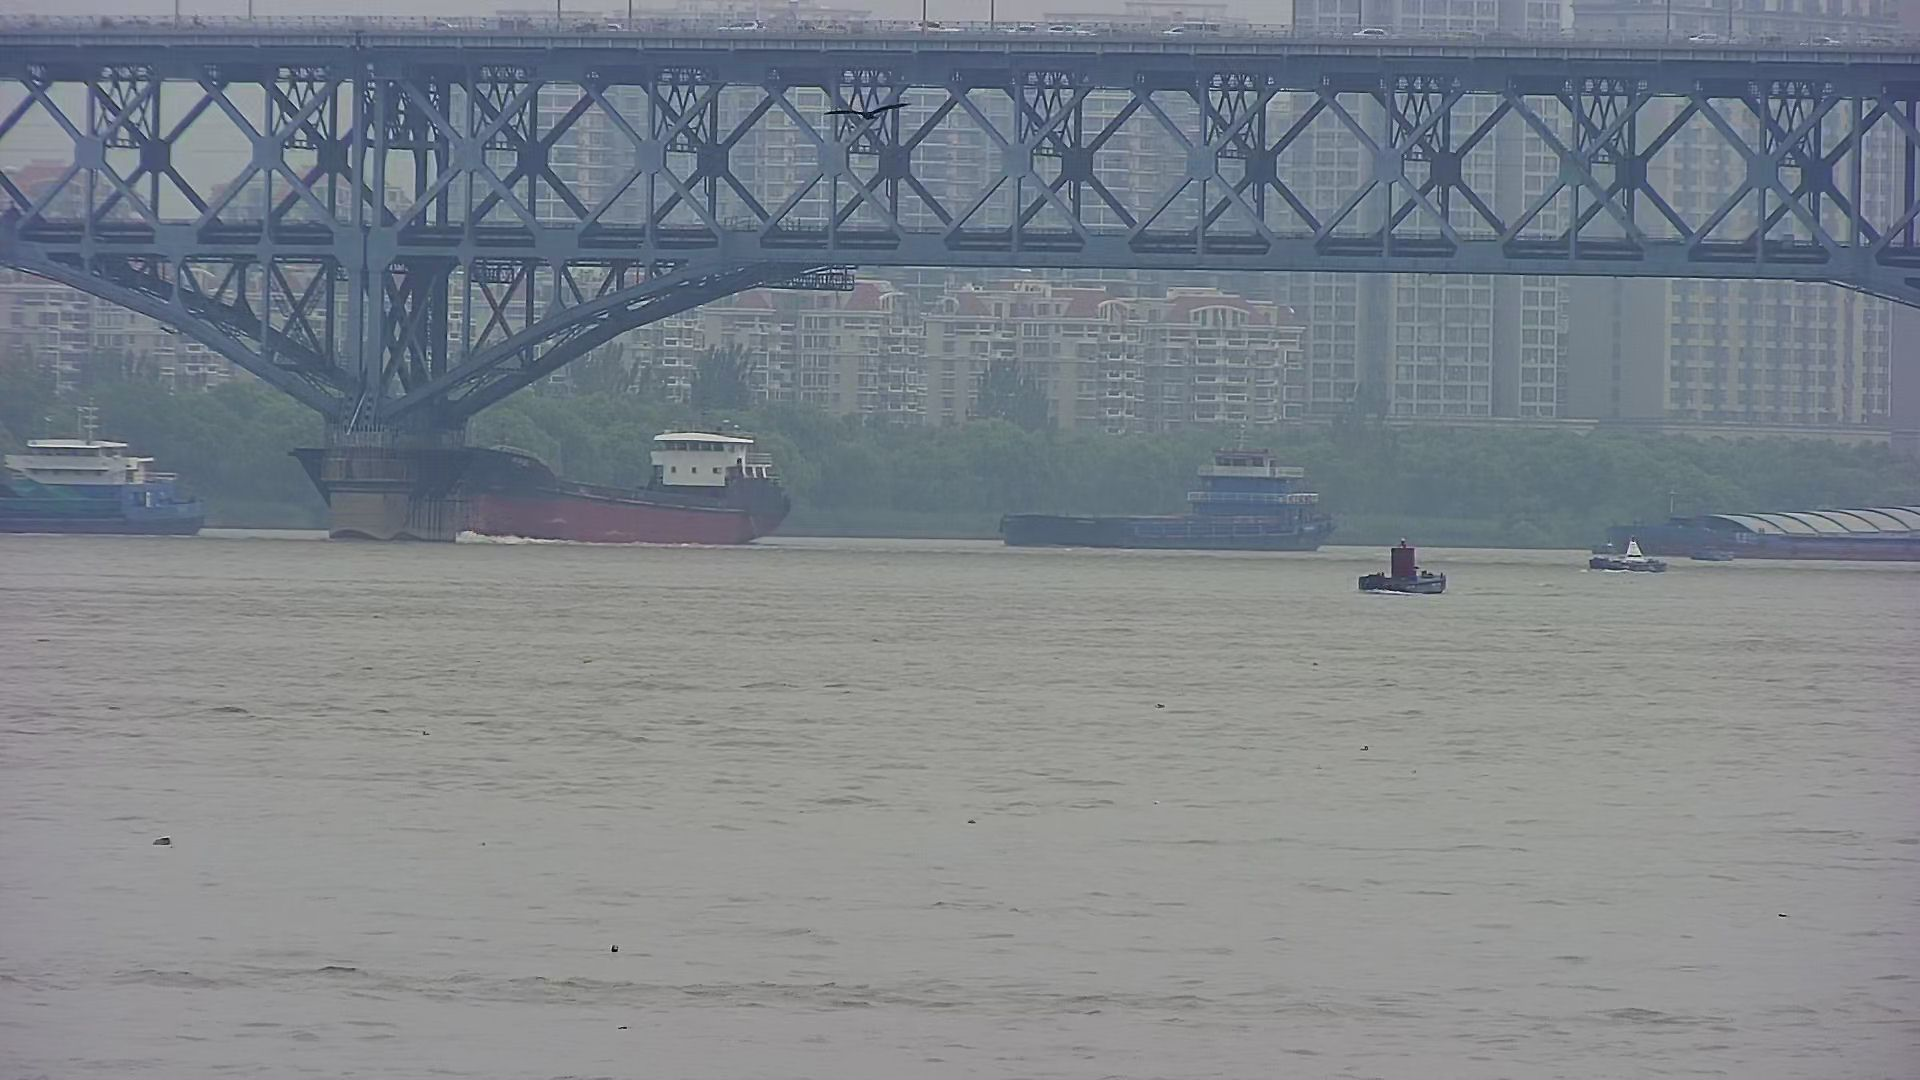boat: (1352, 538, 1460, 593), (1585, 531, 1669, 580)
bridge: (13, 1, 1905, 407)
harbor: (1673, 504, 1909, 572)
ship: (462, 419, 789, 554), (996, 448, 1331, 556), (4, 439, 204, 537)
